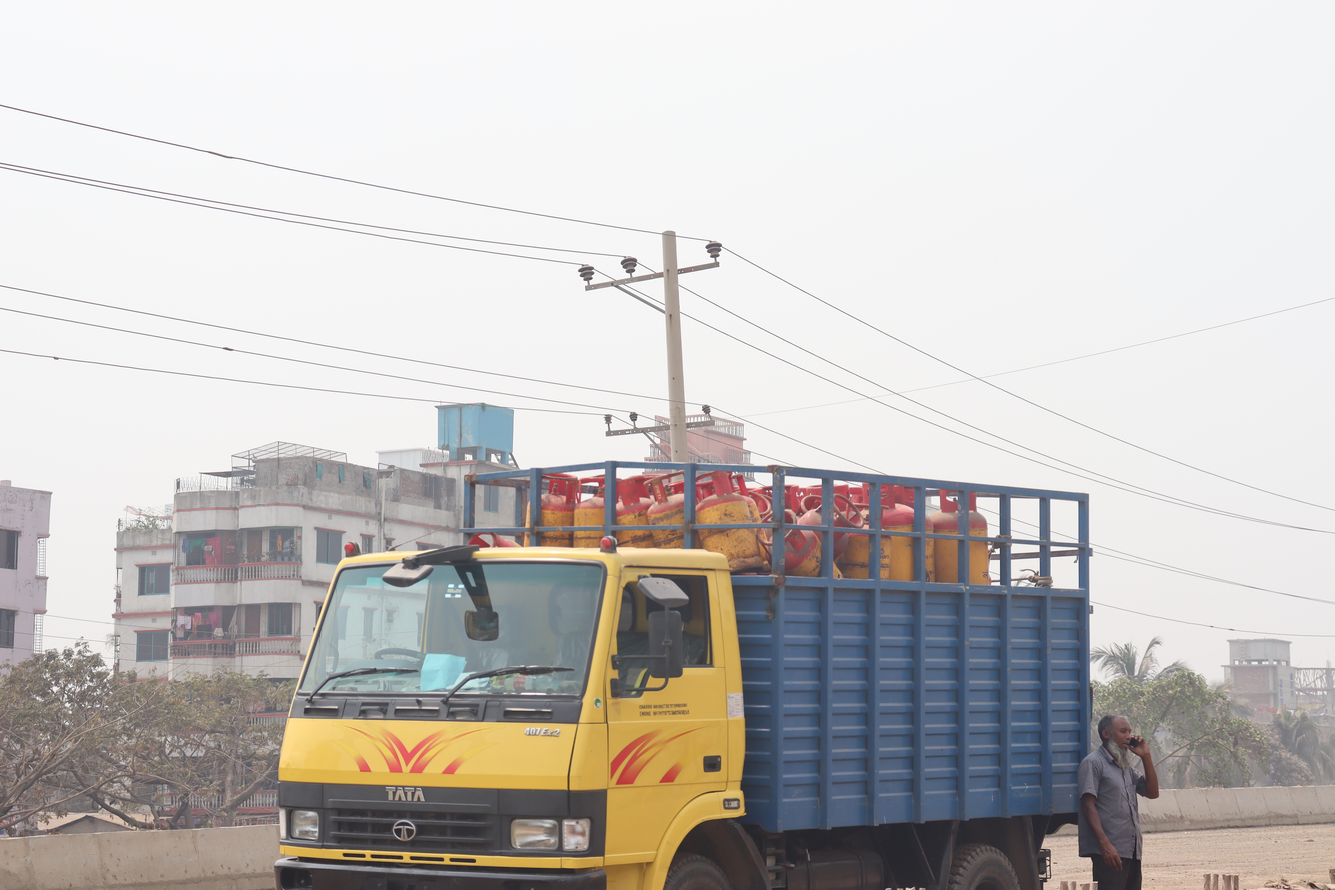Truck: (247, 448, 1098, 885)
